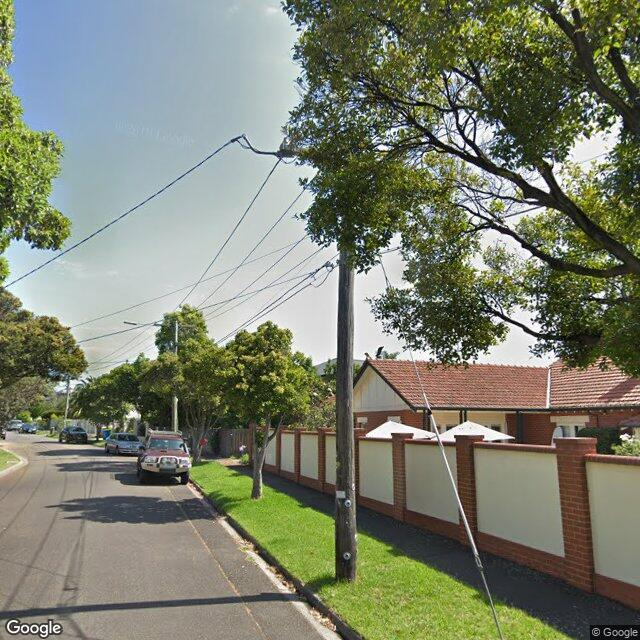crossarm: (153, 323, 197, 327)
streetlight: (124, 321, 155, 326)
timber-pole: (335, 231, 360, 584), (172, 320, 178, 432), (64, 377, 70, 419)
